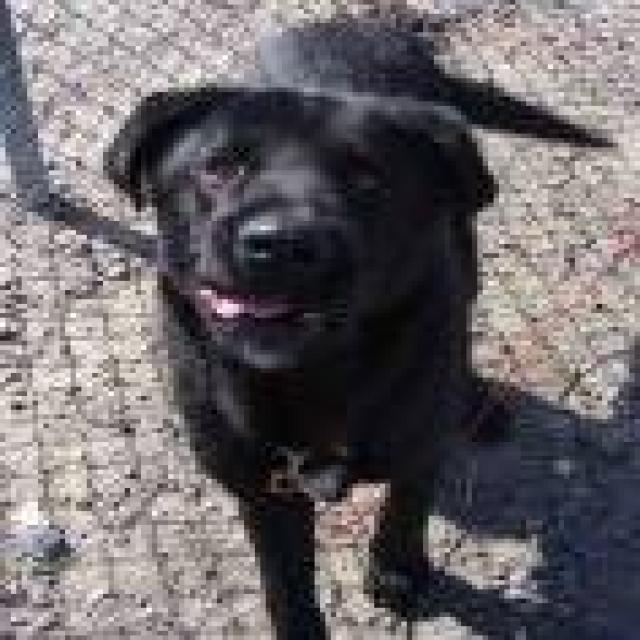cat: (97, 5, 607, 640)
